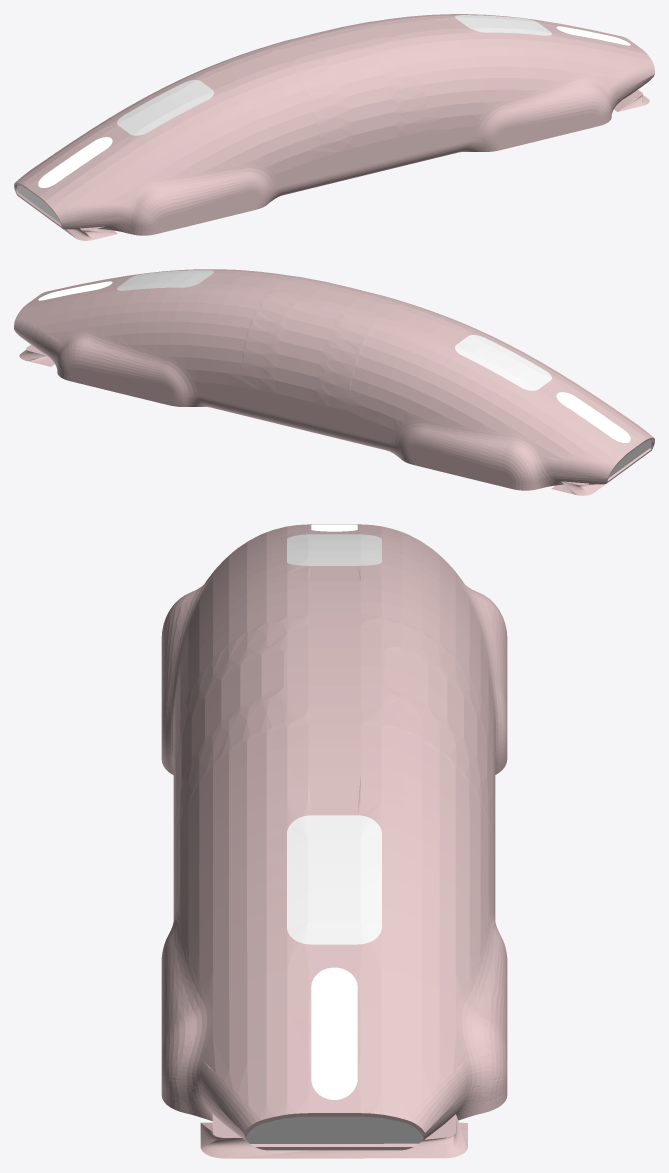
The model's file is Body.glb.
The picture shows the model from 3 angles, top to bottom: view 1: azimuth 30°, elevation 25°; view 2: azimuth 150°, elevation 25°; view 3: azimuth 270°, elevation 25°; orthographic projection. The views are drawn at different scales.
Parts seen in each view (by area): view 1: 车-车漆.1, 车-BANJI-玻璃 (×4), 车-发光 (×2); view 2: 车-车漆.1, 车-BANJI-玻璃 (×4), 车-发光 (×2); view 3: 车-车漆.1, 车-BANJI-玻璃 (×4), 车-发光.1 (×2).
Boxes of the visible parts, x1,y1,x2,y2 form: 车-车漆.1: (14, 14, 654, 240); 车-BANJI-玻璃 (×4): (17, 15, 537, 222); 车-发光 (×2): (38, 137, 112, 187); 车-车漆.1: (14, 269, 654, 495); 车-BANJI-玻璃 (×4): (117, 270, 651, 477); 车-发光 (×2): (556, 392, 630, 442); 车-车漆.1: (161, 524, 507, 1158); 车-BANJI-玻璃 (×4): (245, 534, 423, 1143); 车-发光.1 (×2): (311, 967, 357, 1099).
Size of the model in its own units: 10.85 by 1.83 by 2.69.
